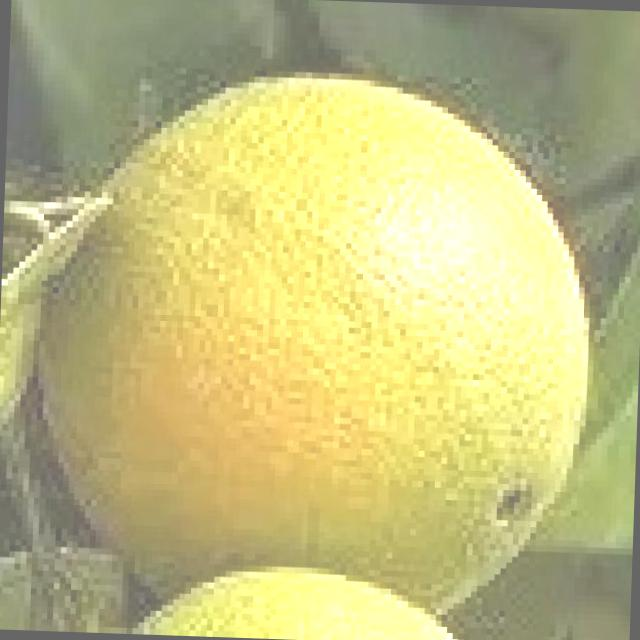Orange: (24, 26, 616, 626), (120, 559, 464, 640)
